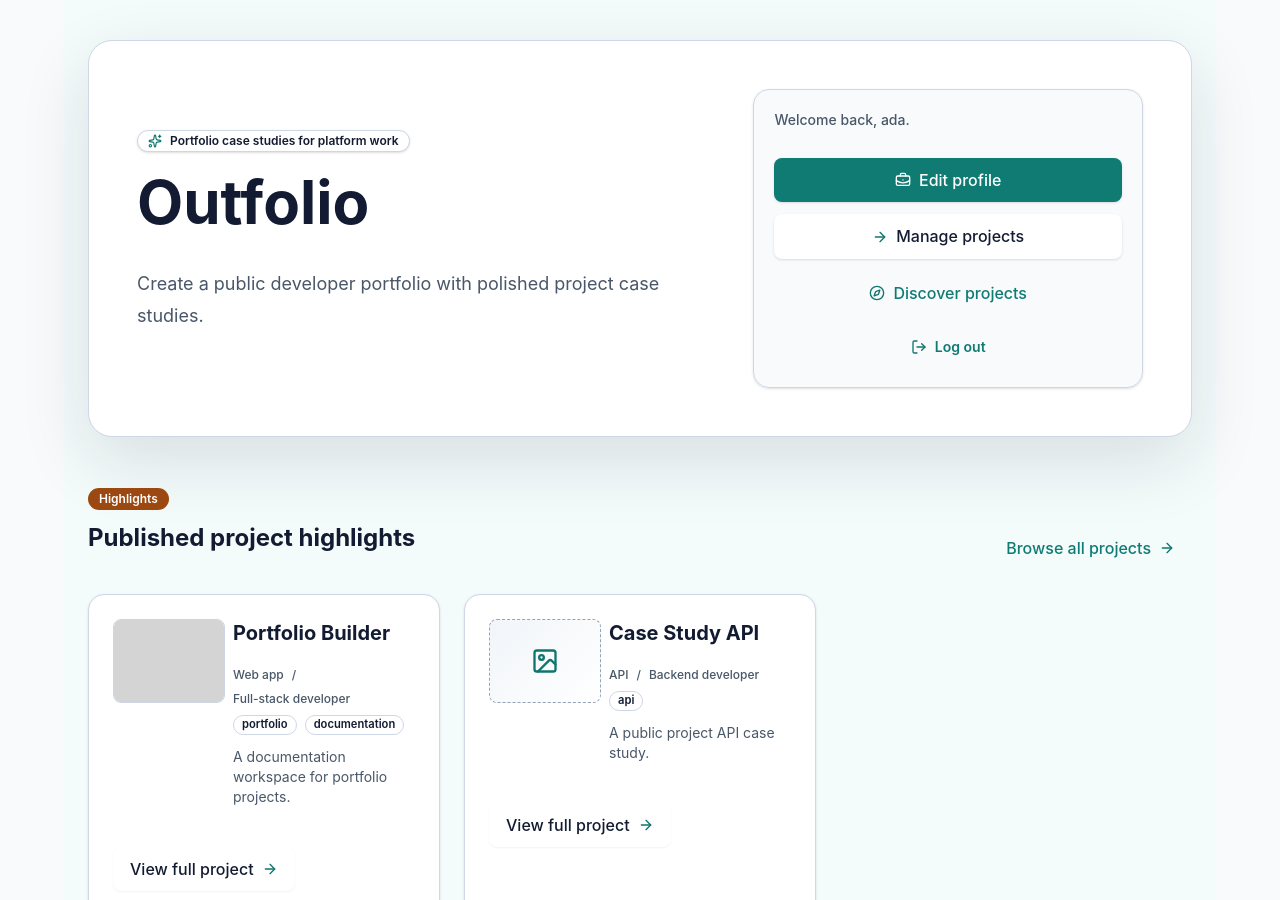
Scenario: HomePage › logs out an authenticated user and stays on the home dashboard as a visitor
The image size is (1280, 900).
Click the button "Log out" at x=948, y=347, box [774, 327, 1122, 367]
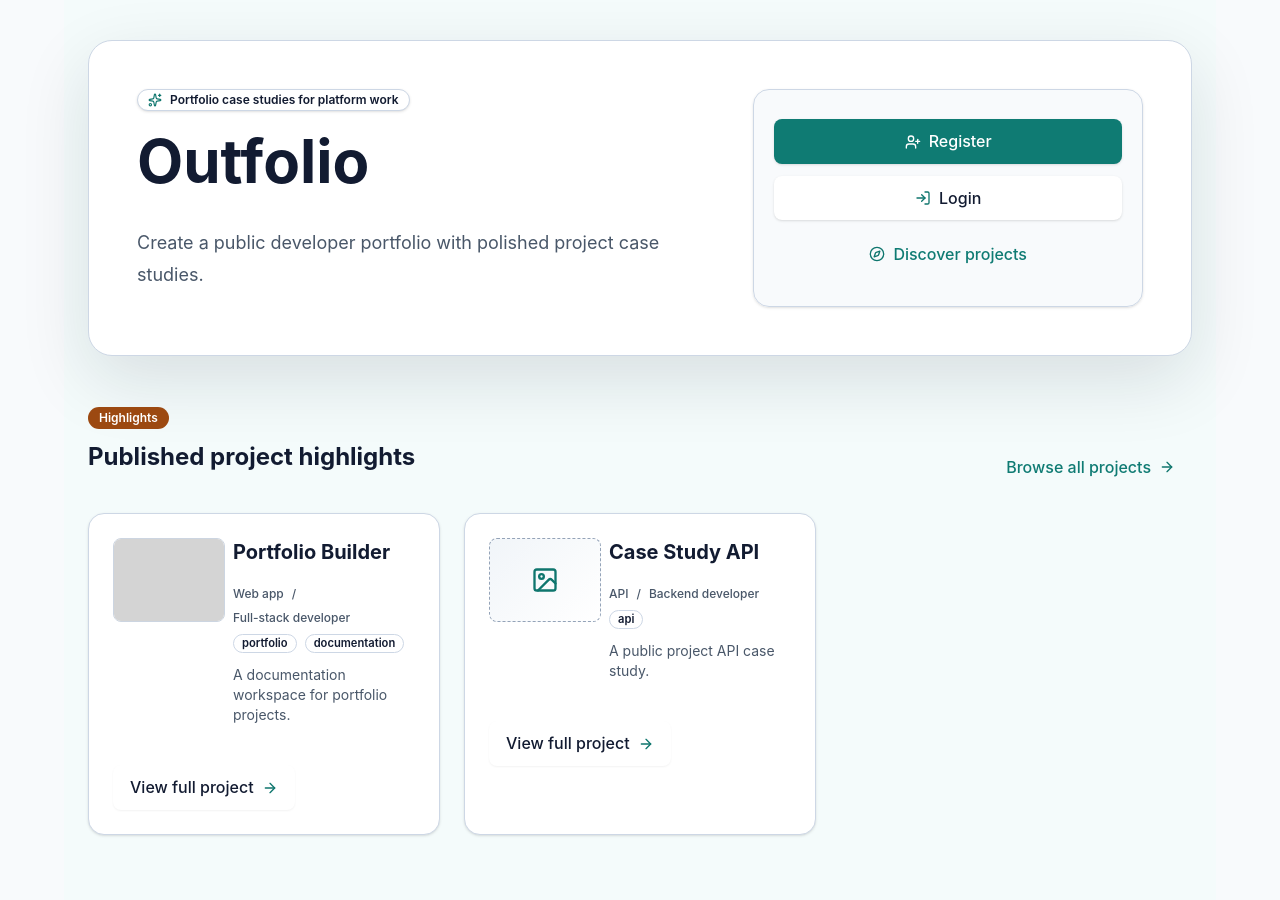
Expected: the heading "Outfolio" is shown, [137, 125, 369, 197]
Result: the text "Welcome back, ada." is gone
Result: the button "Log out" is gone
